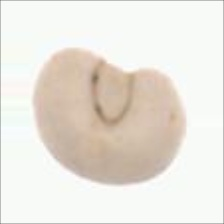L5: (90, 57, 137, 127), (65, 165, 132, 189)
L6: (30, 44, 191, 189)
